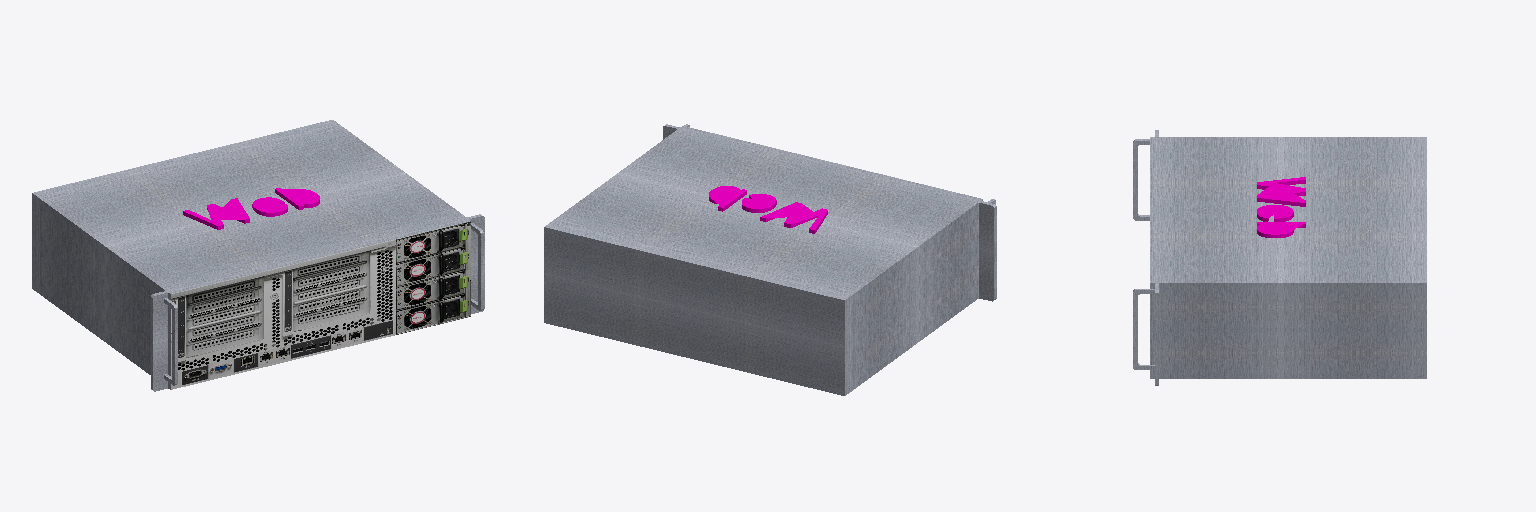
3 views of the same model, side by side, from view 1: azimuth 30°, elevation 25°; view 2: azimuth 150°, elevation 25°; view 3: azimuth 270°, elevation 25° (orthographic).
Parts seen in each view (by area): view 1: FW_WEB; view 2: FW_WEB; view 3: FW_WEB.
Part boxes in pixels (left/top/right/bottom): FW_WEB: left=32, top=120, right=484, bottom=391; FW_WEB: left=544, top=124, right=996, bottom=395; FW_WEB: left=1133, top=130, right=1426, bottom=385.
Bounding box in the file's own units: 2.01 × 0.5768 × 1.54.
3 materials, 2 textured.